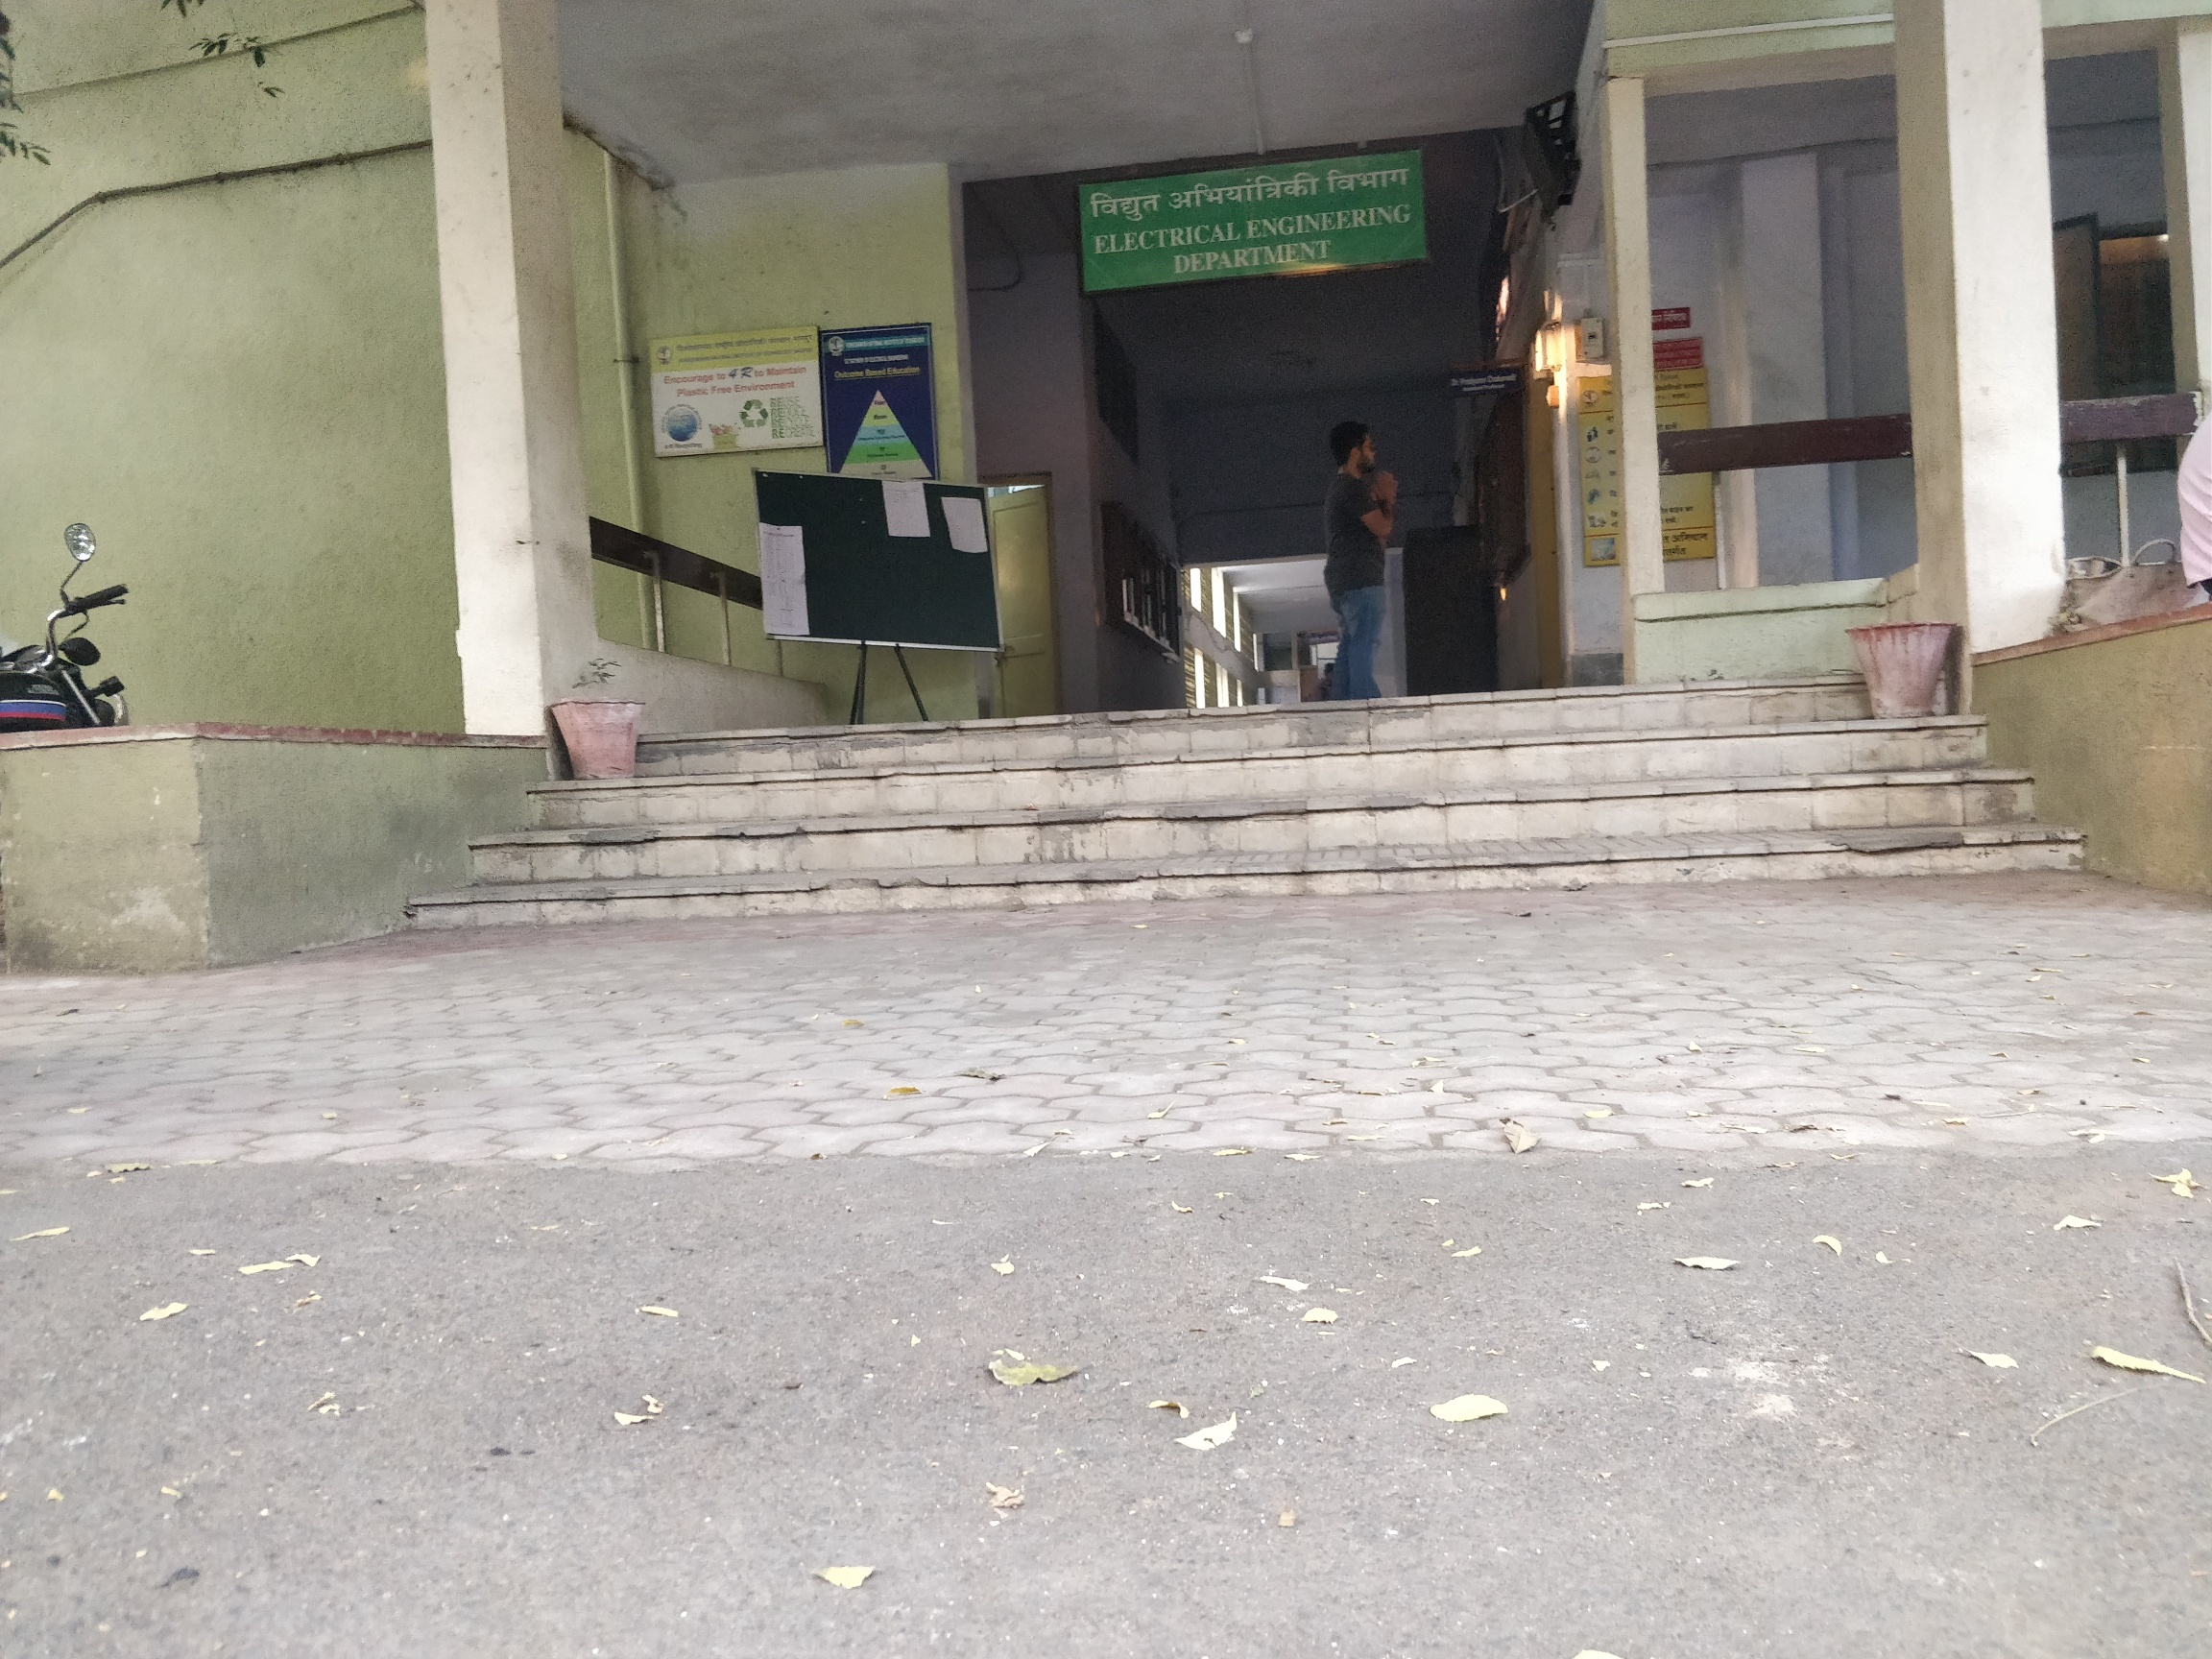stairs_up: (441, 720, 2057, 917)
